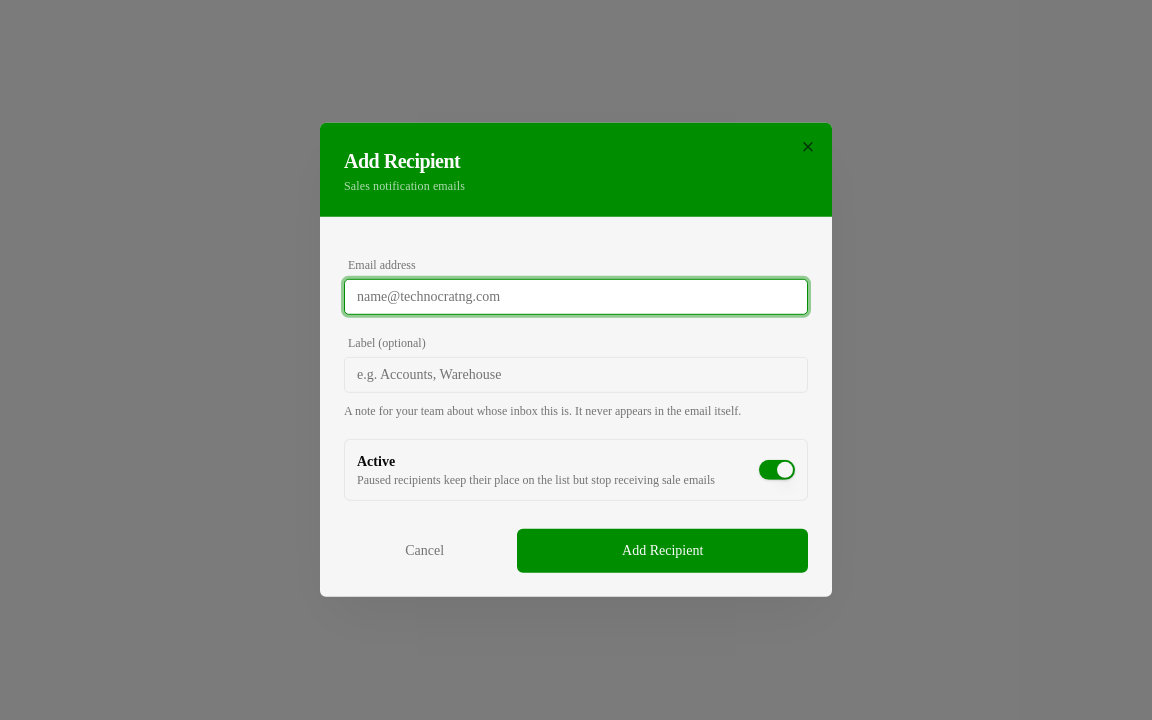
it: RecipientFormDialog › rejects a malformed address before it reaches the API
Type "not-an-email" into the field labelled "Email address" at (576, 297), box [344, 279, 808, 315]
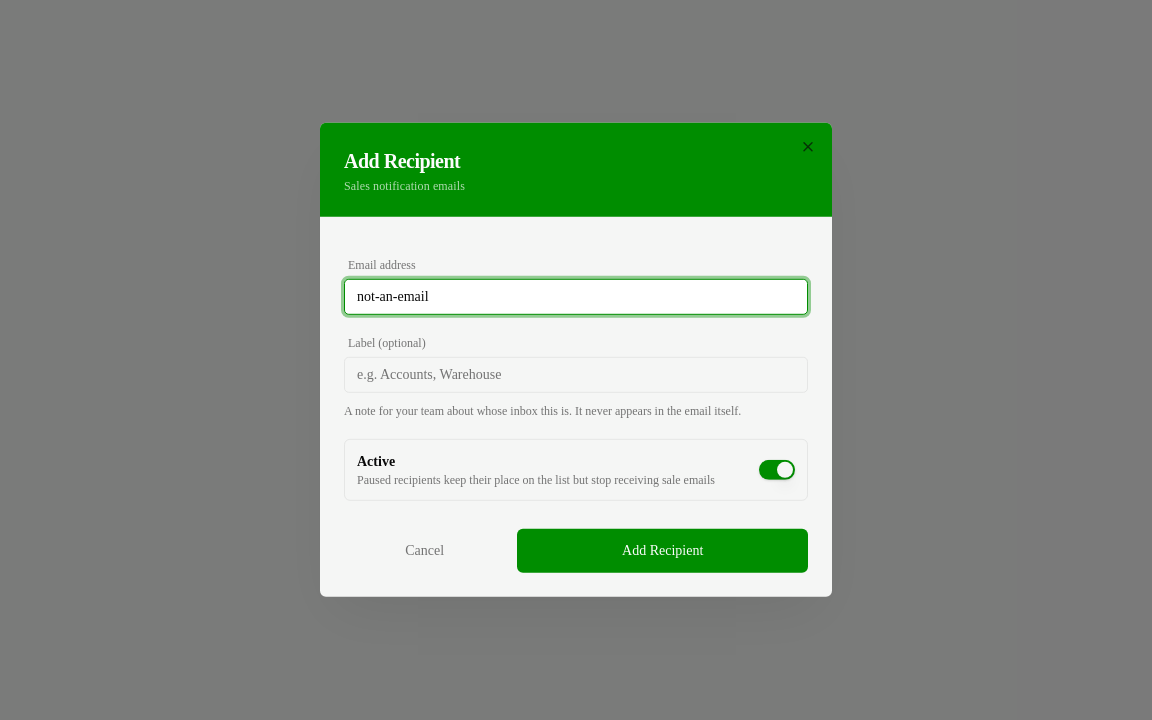
Submit the form, box [320, 233, 832, 597]
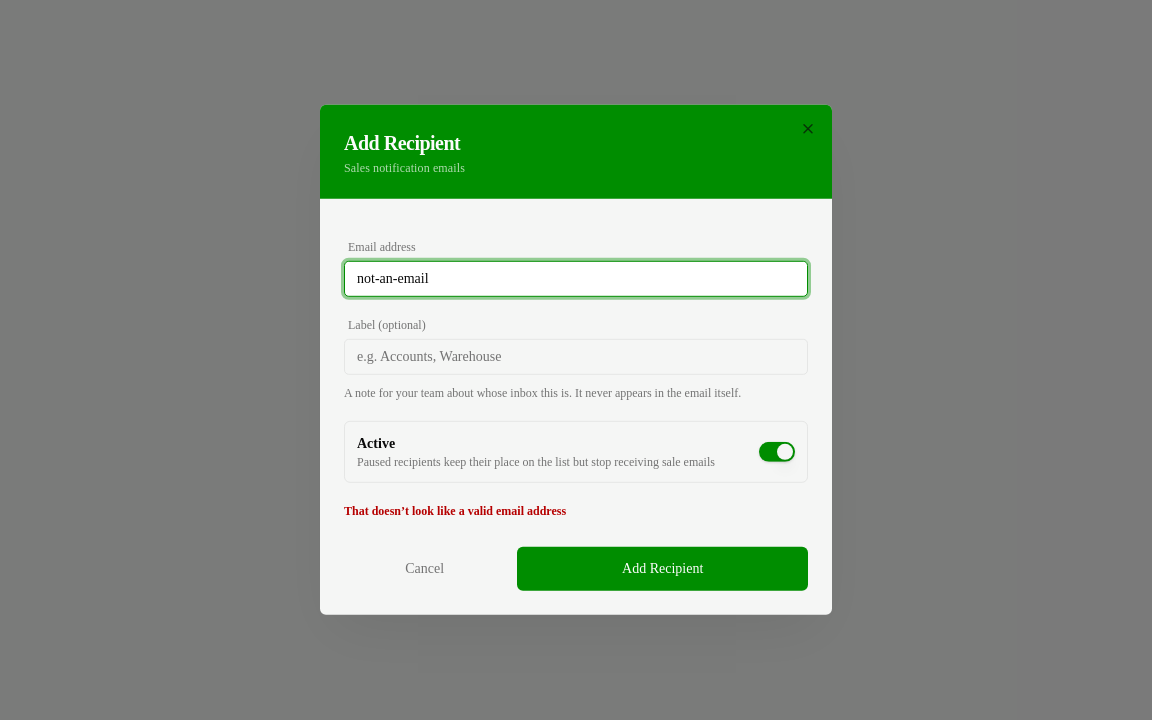
Now the message shows "valid email", box [344, 504, 566, 518]
